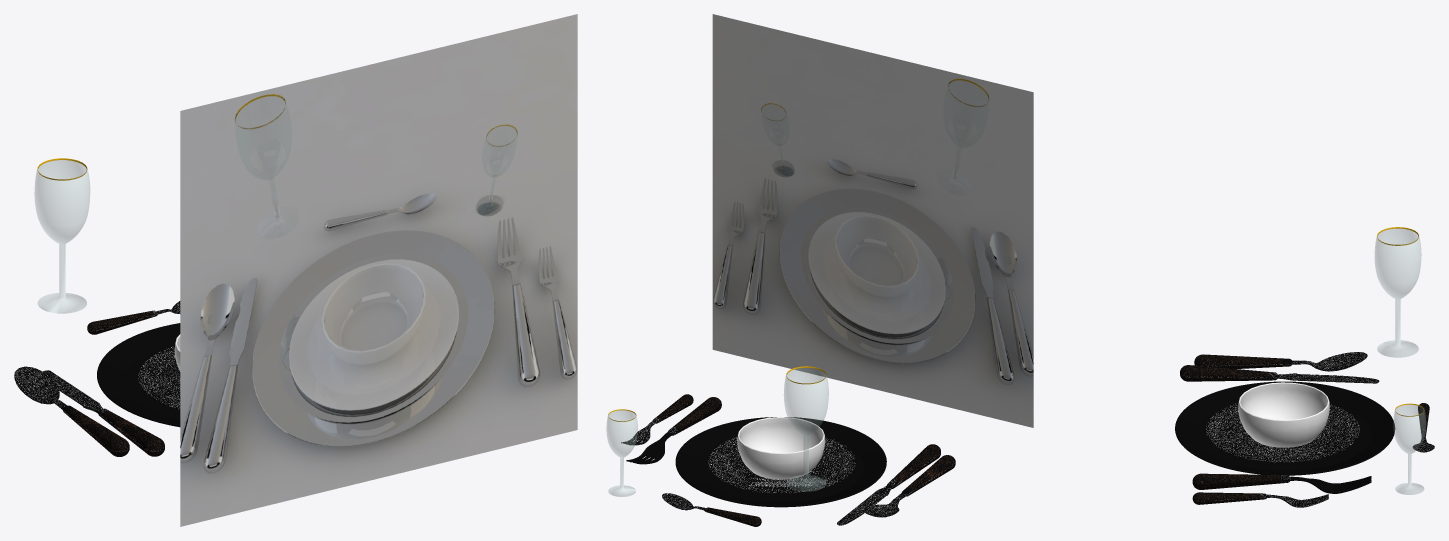
Rendered from tableware.dae.
The picture shows the model from 3 angles, left to right: view 1: azimuth 30°, elevation 25°; view 2: azimuth 150°, elevation 25°; view 3: azimuth 270°, elevation 25°; orthographic projection. The views are drawn at different scales.
Visible parts, largest first — view 1: image_0, taça_1 (×2), souplat, prato, handle (×2), group_0, group_2; view 2: image_0, souplat, taça_1 (×2), BOWL_ (×2), prato, taça_pequena (×2), handle (×3), group_2, group_1, group_0; view 3: souplat, taça_1 (×2), BOWL_ (×2), prato, taça_pequena (×2), handle (×4), group_0, group_2, group_1, group_3.
Boxes of the visible parts, left/top/right/bottom form: image_0: left=180, top=14, right=577, bottom=526; taça_1 (×2): left=34, top=160, right=89, bottom=313; souplat: left=97, top=323, right=180, bottom=427; prato: left=138, top=345, right=180, bottom=409; handle (×2): left=67, top=408, right=164, bottom=451; group_0: left=14, top=366, right=129, bottom=452; group_2: left=43, top=370, right=164, bottom=451; image_0: left=712, top=14, right=1033, bottom=427; souplat: left=675, top=417, right=886, bottom=507; taça_1 (×2): left=784, top=368, right=828, bottom=491; BOWL_ (×2): left=737, top=417, right=825, bottom=479; prato: left=708, top=436, right=855, bottom=493; taça_pequena (×2): left=606, top=411, right=637, bottom=496; handle (×3): left=673, top=397, right=955, bottom=490; group_2: left=837, top=452, right=940, bottom=525; group_1: left=626, top=405, right=721, bottom=464; group_0: left=862, top=463, right=955, bottom=517; souplat: left=1175, top=381, right=1395, bottom=475; taça_1 (×2): left=1375, top=229, right=1421, bottom=357; BOWL_ (×2): left=1238, top=382, right=1329, bottom=447; prato: left=1205, top=403, right=1359, bottom=462; taça_pequena (×2): left=1393, top=405, right=1425, bottom=494; handle (×4): left=1180, top=354, right=1282, bottom=500; group_0: left=1194, top=352, right=1367, bottom=371; group_2: left=1180, top=373, right=1379, bottom=383; group_1: left=1192, top=476, right=1371, bottom=493; group_3: left=1192, top=494, right=1328, bottom=507.
Bounding box in the file's own units: 16.7 × 16.11 × 16.73.
